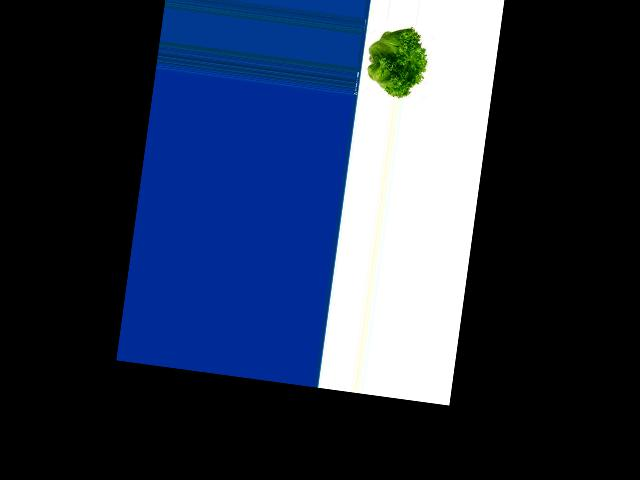lettuce: (359, 24, 433, 101)
